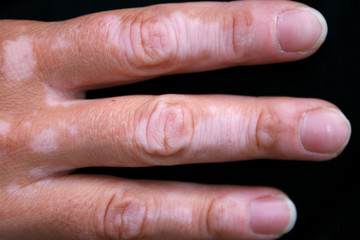vitiligo: (6, 27, 262, 236)
